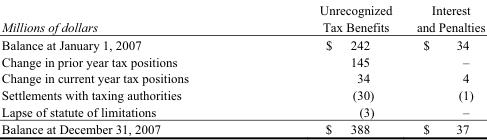table: (0, 1, 484, 137)
table column: (0, 1, 253, 137), (253, 1, 403, 137), (403, 1, 484, 137)
table column header: (0, 1, 484, 35)
table row: (0, 1, 484, 35), (0, 102, 484, 120), (0, 35, 484, 52), (0, 52, 484, 69), (0, 69, 484, 86), (0, 120, 484, 137), (0, 86, 484, 102)
